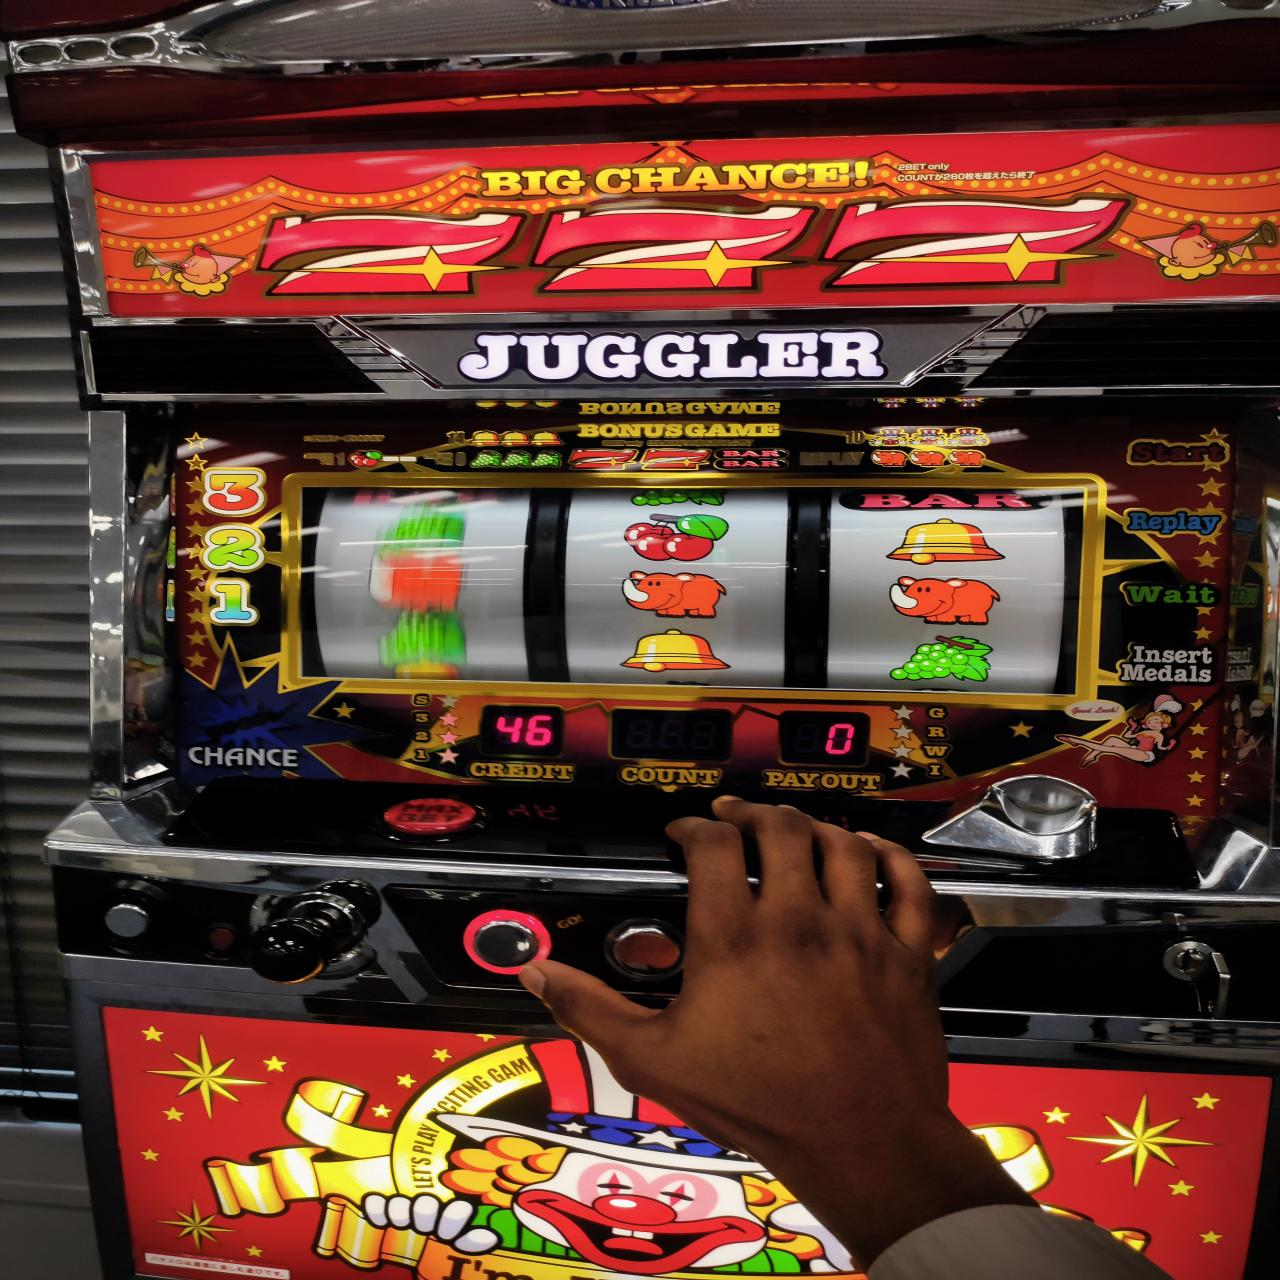8: (886, 574, 1002, 624), (618, 572, 730, 618)
bell: (886, 519, 1010, 570), (622, 628, 730, 675)
cherry: (620, 512, 730, 560)
grape: (888, 634, 994, 682)
rhino: (313, 485, 1089, 709)
